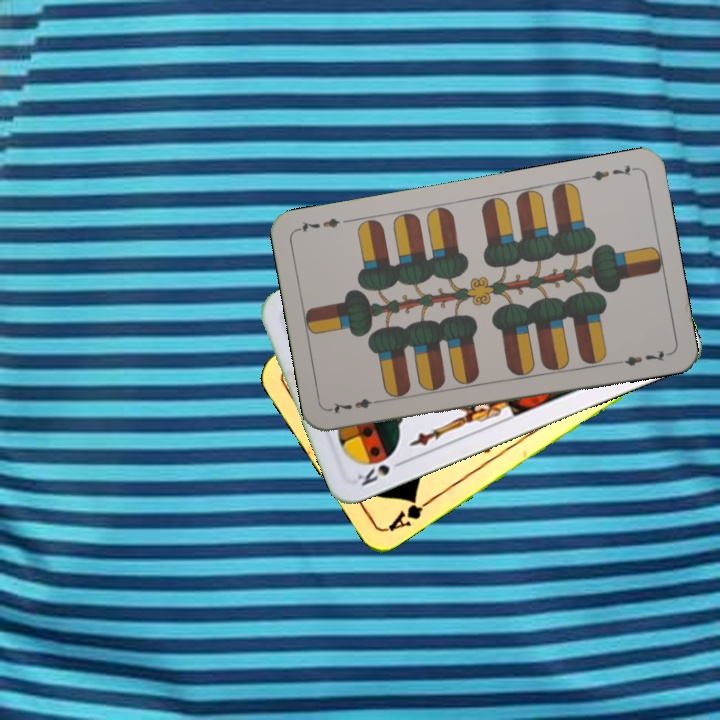E7: (580, 161, 639, 183), (327, 394, 385, 415)
GA: (384, 492, 436, 535)
SK: (353, 456, 409, 489)
